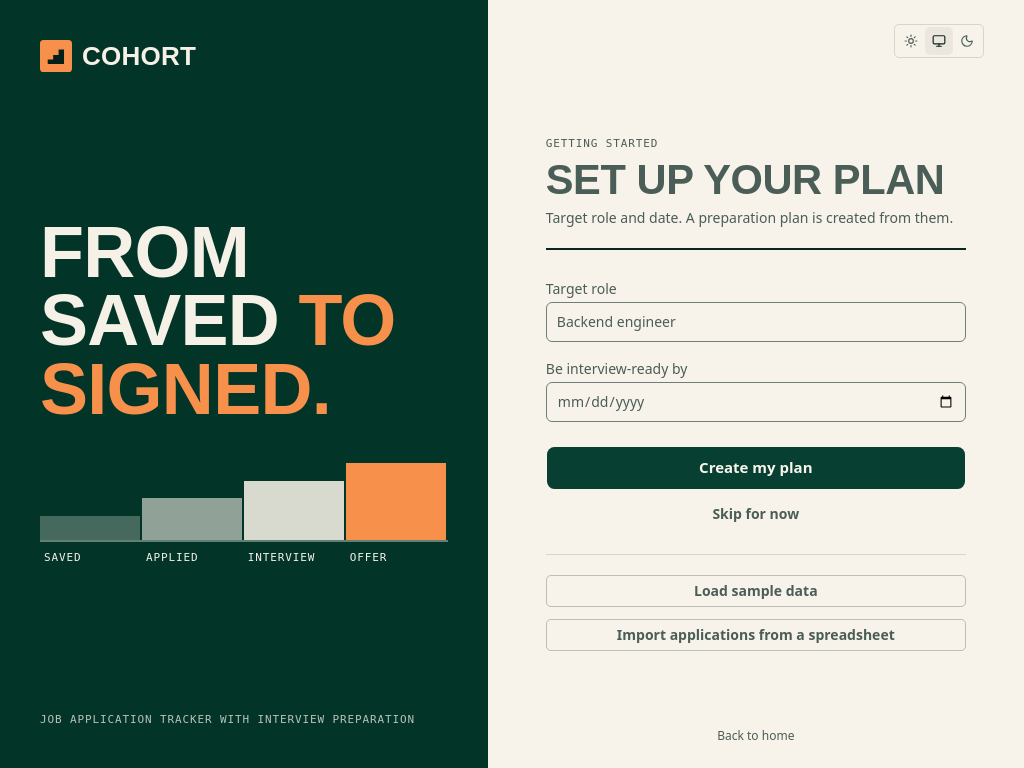
Test: OnboardingPage › blocks submission without a role and a future date
Click the button "Create my plan" at {"x": 756, "y": 468}, box [546,446,966,490]
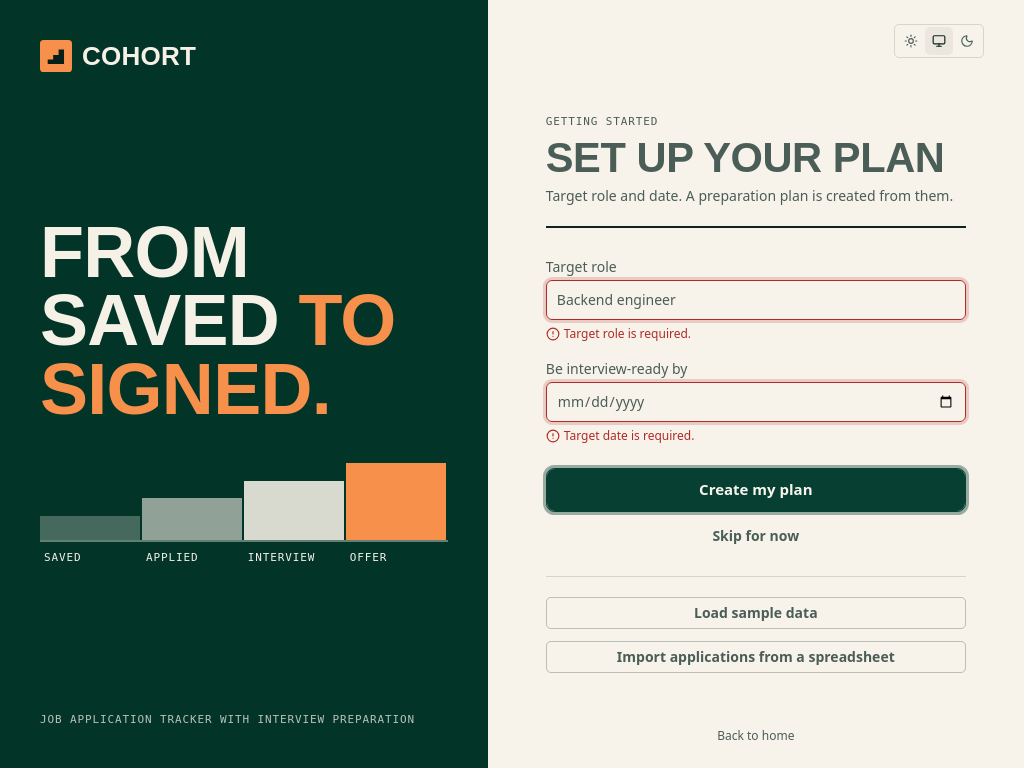
Now the text "Target role is required." is shown, box [546,324,691,342]
